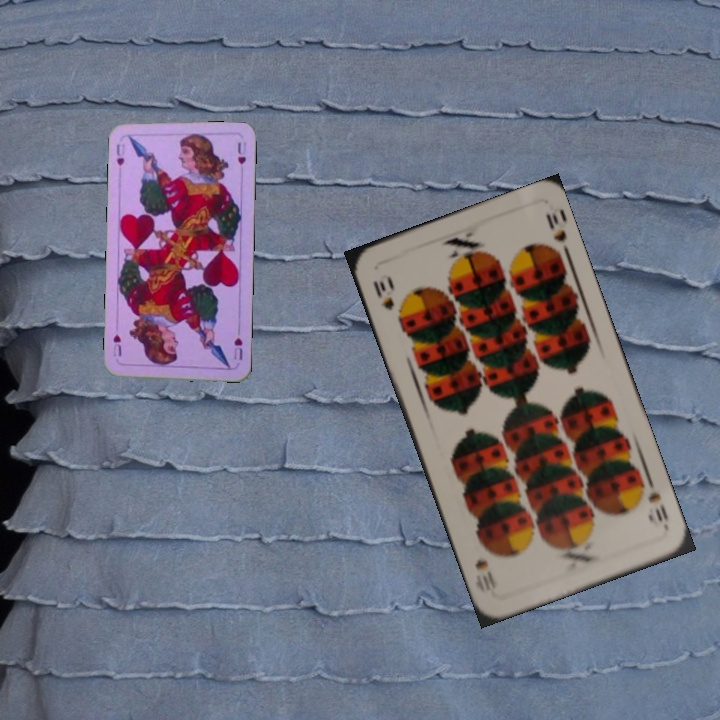HU: (230, 334, 245, 363), (112, 140, 127, 168)
S10: (643, 475, 671, 524), (369, 273, 397, 313)
